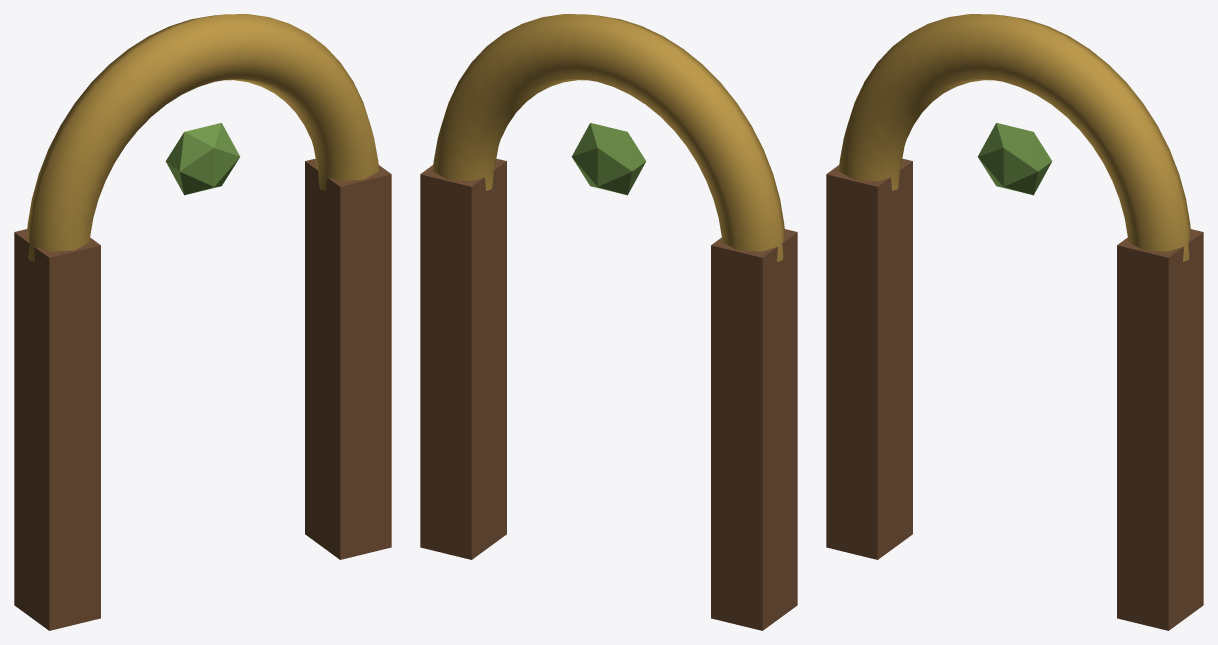
The model's file is gateway.glb.
The picture shows the model from 3 angles, left to right: view 1: azimuth 30°, elevation 25°; view 2: azimuth 150°, elevation 25°; view 3: azimuth 330°, elevation 25°; orthographic projection.
Visible parts, largest first — view 1: pillar_-1, pillar_1, arch, keystone; view 2: pillar_-1, pillar_1, arch, keystone; view 3: pillar_1, pillar_-1, arch, keystone.
Part boxes in pixels (x1,y1,x2,y2): pillar_-1: (14,229,100,630); pillar_1: (305,158,391,559); arch: (27,14,378,261); keystone: (165,123,240,195); pillar_-1: (711,229,797,630); pillar_1: (420,158,506,559); arch: (433,14,784,261); keystone: (571,123,646,195); pillar_1: (1117,229,1203,630); pillar_-1: (826,158,912,559); arch: (839,14,1190,261); keystone: (977,123,1052,195).
Size of what is drawn, in the model's own units: 3.7 by 5.69 by 0.65.
